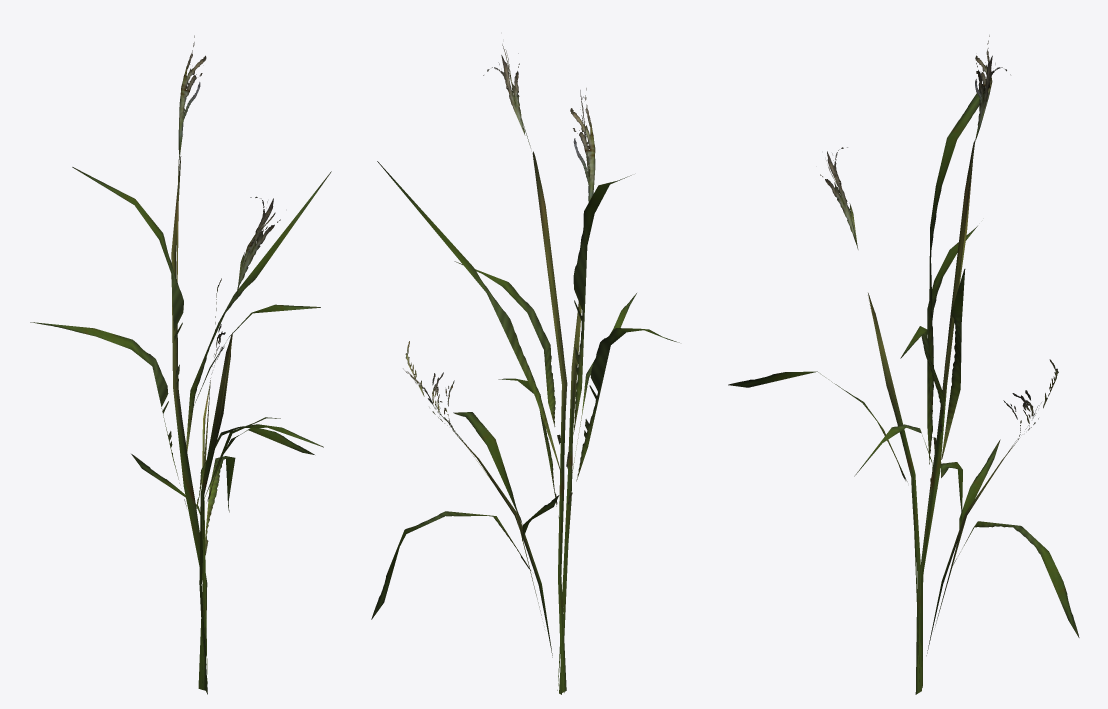
File: grass.glb
The picture shows the model from 3 angles, left to right: view 1: azimuth 30°, elevation 25°; view 2: azimuth 150°, elevation 25°; view 3: azimuth 270°, elevation 25°; orthographic projection. The views are drawn at different scales.
Parts seen in each view (by area): view 1: ph-grass-tall-a-low; view 2: ph-grass-tall-a-low; view 3: ph-grass-tall-a-low.
Part boxes in pixels (<box>): ph-grass-tall-a-low: <box>30,35,331,694</box>; ph-grass-tall-a-low: <box>371,44,679,694</box>; ph-grass-tall-a-low: <box>728,35,1079,694</box>.
Size of the model in its own units: 0.161 by 0.3225 by 0.1585.
1 material, 1 textured.
